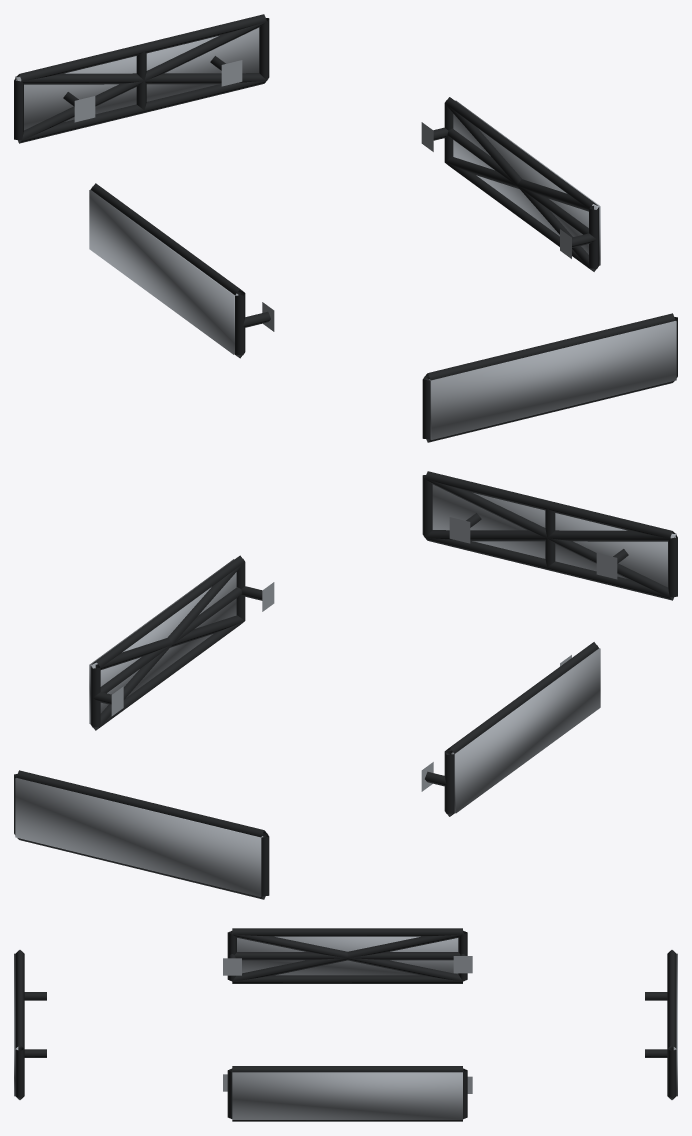
The model's file is kosame_xisto_protecao.glb.
3 renders of one model, top to bottom at view 1: azimuth 30°, elevation 25°; view 2: azimuth 150°, elevation 25°; view 3: azimuth 270°, elevation 25°, orthographic. The views are drawn at different scales.
Parts seen in each view (by area): view 1: Protection_front_Level3_Details, Protection_left_Level3_Details, Protection_rear_Level1_Details, Protection_rear_Level3_Details, Protection_rear_Level2_Details, Protection_right_Level1_Details, Protection_right_Level2_Details, Protection_right_Level3_Details, Protection_front_Level1_Details, Protection_left_Level1_Details; view 2: Protection_rear_Level3_Details, Protection_left_Level3_Details, Protection_front_Level1_Details, Protection_front_Level3_Details, Protection_right_Level1_Details, Protection_front_Level2_Details, Protection_right_Level2_Details, Protection_right_Level3_Details, Protection_rear_Level1_Details, Protection_left_Level1_Details; view 3: Protection_right_Level3_Details, Protection_left_Level2_Details, Protection_left_Level1_Details, Protection_left_Level3_Details, Protection_right_Level1_Details, Protection_rear_Level1_Details, Protection_front_Level1_Details.
Boxes of the visible parts, bbox=[...] form: Protection_front_Level3_Details: bbox=[428, 321, 676, 440]; Protection_left_Level3_Details: bbox=[89, 189, 238, 354]; Protection_rear_Level1_Details: bbox=[14, 14, 269, 143]; Protection_rear_Level3_Details: bbox=[15, 27, 259, 130]; Protection_rear_Level2_Details: bbox=[16, 21, 266, 142]; Protection_right_Level1_Details: bbox=[421, 97, 599, 271]; Protection_right_Level2_Details: bbox=[445, 104, 597, 271]; Protection_right_Level3_Details: bbox=[453, 100, 600, 265]; Protection_front_Level1_Details: bbox=[422, 313, 677, 442]; Protection_left_Level1_Details: bbox=[90, 183, 274, 358]; Protection_rear_Level3_Details: bbox=[15, 778, 263, 897]; Protection_left_Level3_Details: bbox=[451, 648, 600, 813]; Protection_front_Level1_Details: bbox=[422, 471, 677, 600]; Protection_front_Level3_Details: bbox=[432, 484, 676, 587]; Protection_right_Level1_Details: bbox=[90, 555, 274, 730]; Protection_front_Level2_Details: bbox=[425, 478, 675, 599]; Protection_right_Level2_Details: bbox=[91, 562, 244, 729]; Protection_right_Level3_Details: bbox=[89, 559, 236, 724]; Protection_rear_Level1_Details: bbox=[14, 770, 269, 899]; Protection_left_Level1_Details: bbox=[421, 642, 598, 816]; Protection_right_Level3_Details: bbox=[232, 1072, 462, 1119]; Protection_left_Level2_Details: bbox=[232, 931, 463, 981]; Protection_left_Level1_Details: bbox=[223, 928, 472, 983]; Protection_left_Level3_Details: bbox=[237, 936, 458, 975]; Protection_right_Level1_Details: bbox=[223, 1066, 472, 1121]; Protection_rear_Level1_Details: bbox=[645, 950, 676, 1099]; Protection_front_Level1_Details: bbox=[15, 950, 46, 1099].
Bounding box in the file's own units: 1.95 × 0.354 × 3.83.
Materials: 1 (1 with a texture image).
